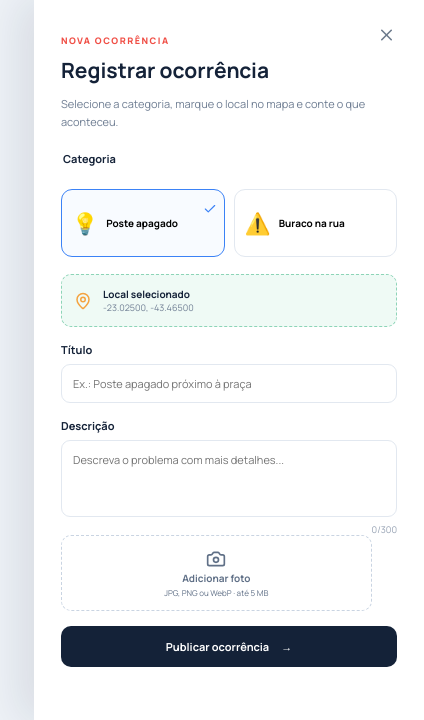
it: fluxo do formulário de ocorrência › envia coordenadas e impede reenvio durante o salvamento
The width and height of the screenshot is (424, 720).
Type "Poste sem luz" into the field with placeholder "Ex.: Poste apagado próximo à praça".
click(229, 384); type("Poste sem luz")  # box top-left (61, 364), bottom-right (397, 403)
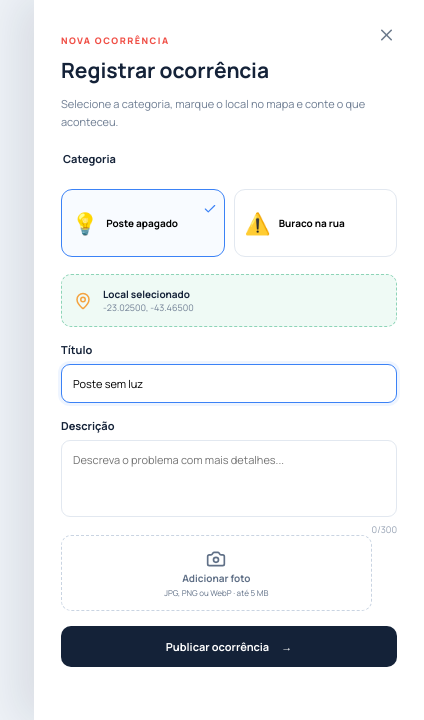
Type "O trecho está escuro há vários dias." into the text box with placeholder "Descreva o problema com mais detalhes...".
click(229, 479); type("O trecho está escuro há vários dias.")  # box top-left (61, 440), bottom-right (397, 517)
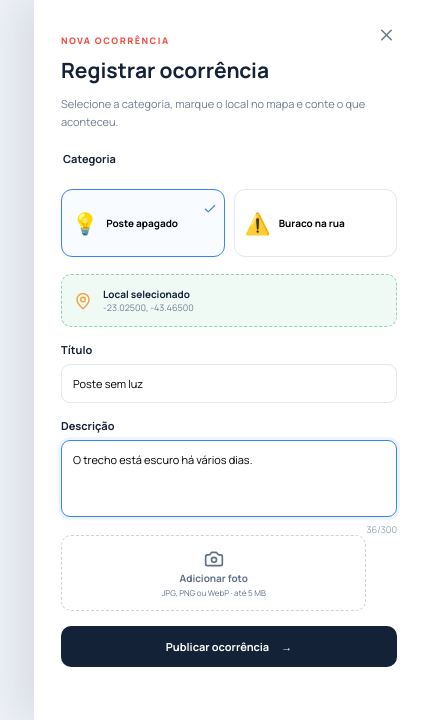
Click the button "Publicar ocorrência →".
click(229, 647)  # box top-left (61, 626), bottom-right (397, 667)
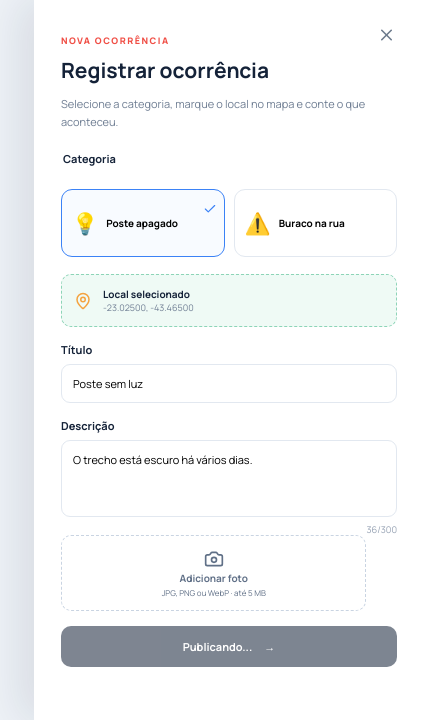
Result: the button "Publicando... →" is disabled at top-left (61, 626), bottom-right (397, 667)
